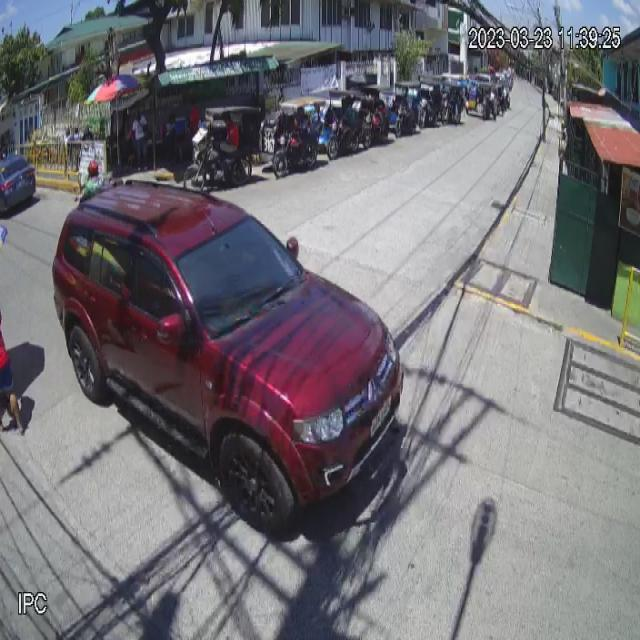Car: (51, 178, 402, 534)
